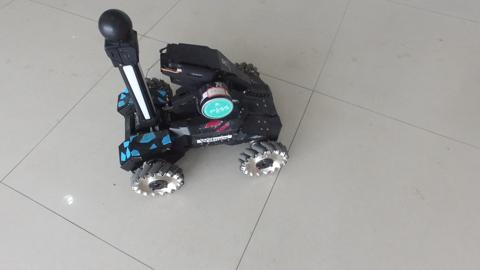chariot: (90, 37, 310, 214)
